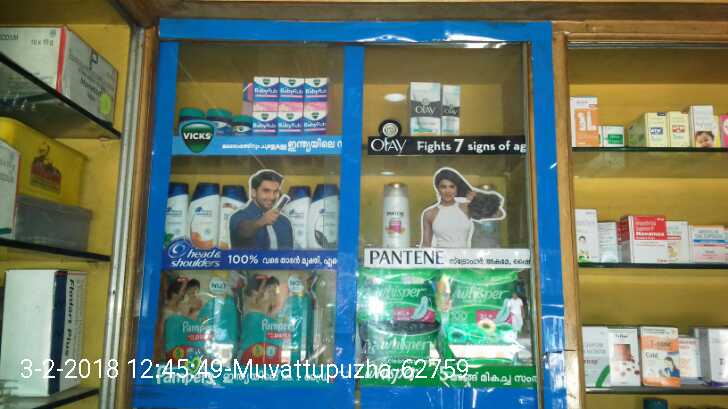vicks: (174, 69, 336, 139)
